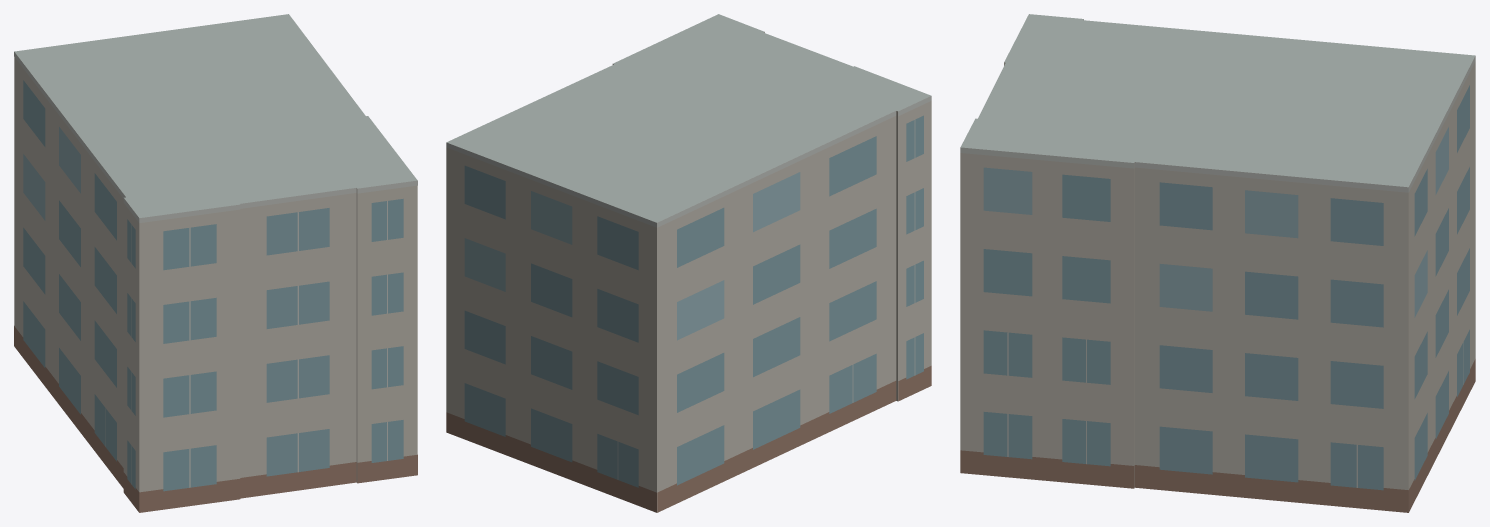
Rendered from survey-upis-32961111.glb.
3 renders of one model, left to right at view 1: azimuth 30°, elevation 25°; view 2: azimuth 150°, elevation 25°; view 3: azimuth 270°, elevation 25°, orthographic. The views are drawn at different scales.
Visible parts, largest first — view 1: survey-upis-32961111.tmp; view 2: survey-upis-32961111.tmp; view 3: survey-upis-32961111.tmp.
Part boxes in pixels (box(x1,y1,x2,y2)): survey-upis-32961111.tmp: box(14, 14, 417, 512); survey-upis-32961111.tmp: box(446, 14, 931, 512); survey-upis-32961111.tmp: box(960, 14, 1475, 512).
Bounding box in the file's own units: 16.38 × 14.35 × 20.59.
